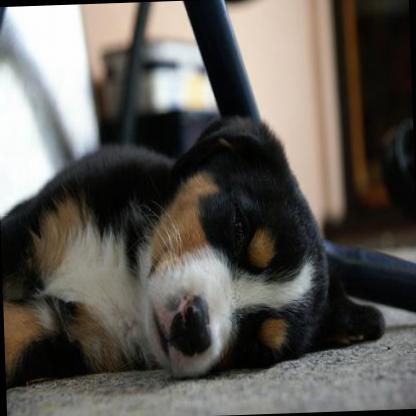Appenzeller: (0, 110, 384, 387)
